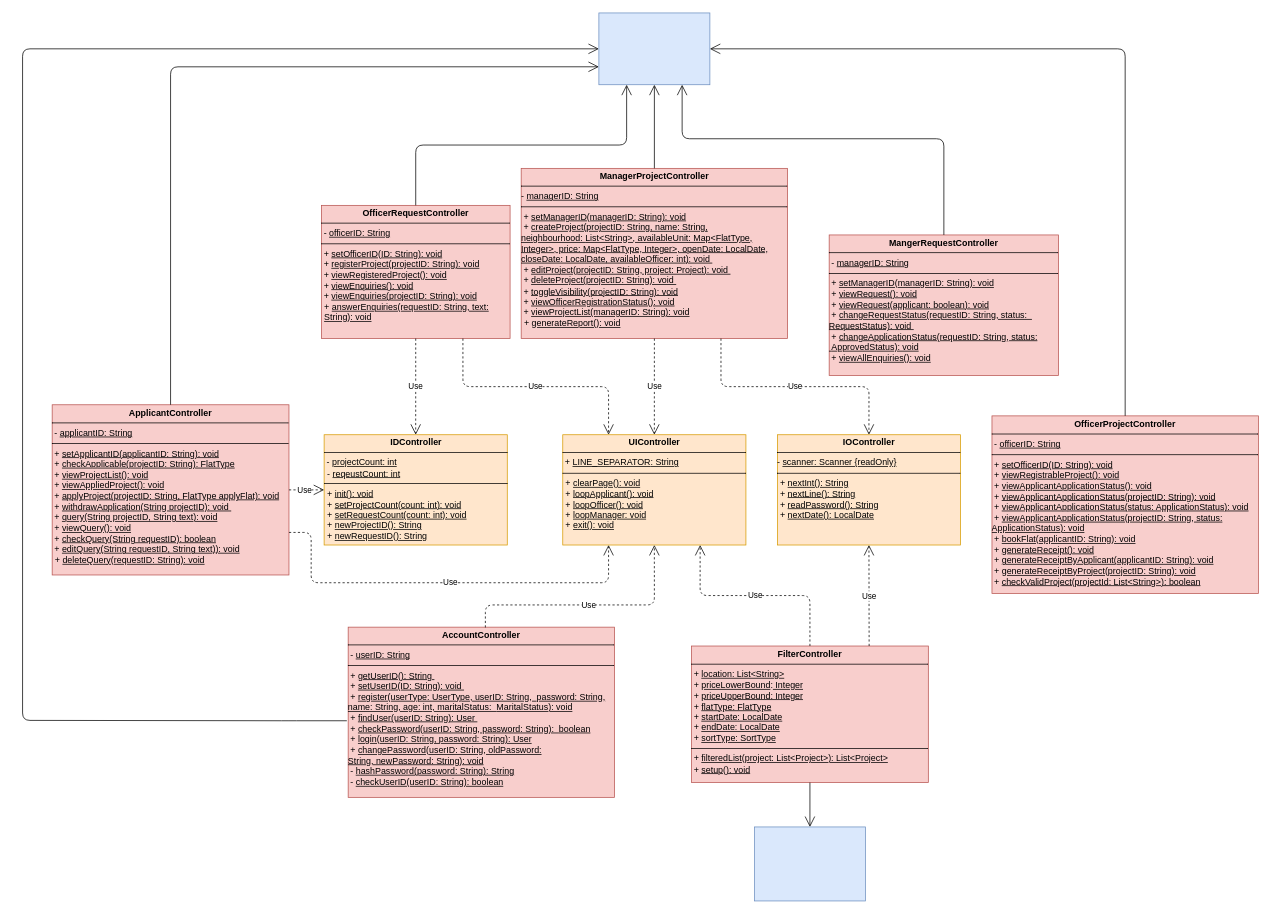
The diagram is 1271 pixels wide and 914 high, and some of its shapes have lost their labels. The shapes that lost their labels are listed below. From the top down, each one's box as (x1, y1, x2, y2) in pixels, then its label:
(598, 12, 710, 85): <<enumuration>> UserType + APPLICANT: + OFFICER: + MANAGER:
(754, 826, 865, 901): <<enumuration>> SortType + NAME: + PRICE: + DATE:
